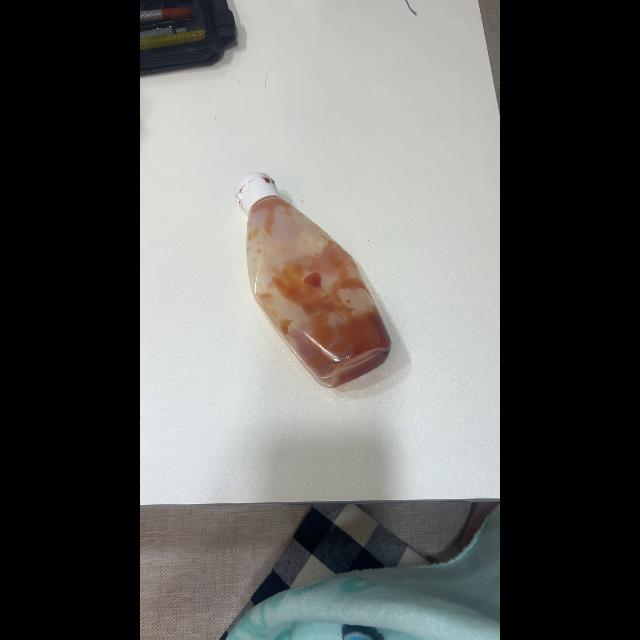dirty: (236, 172, 397, 388)
